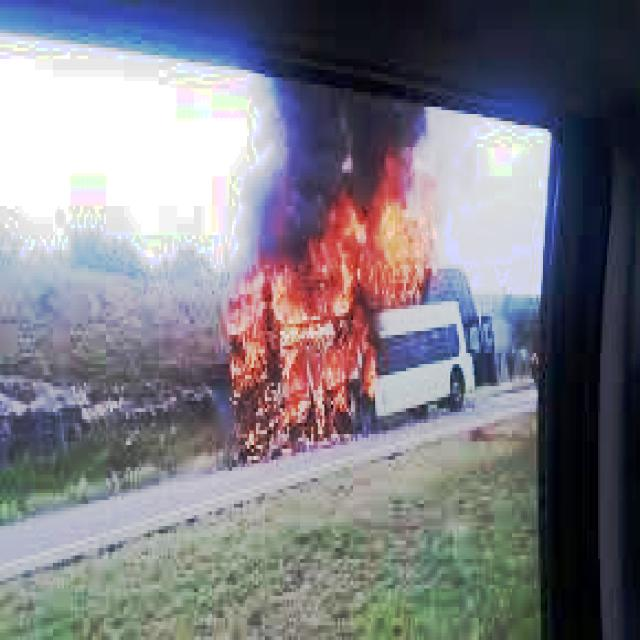api: (222, 144, 460, 450)
